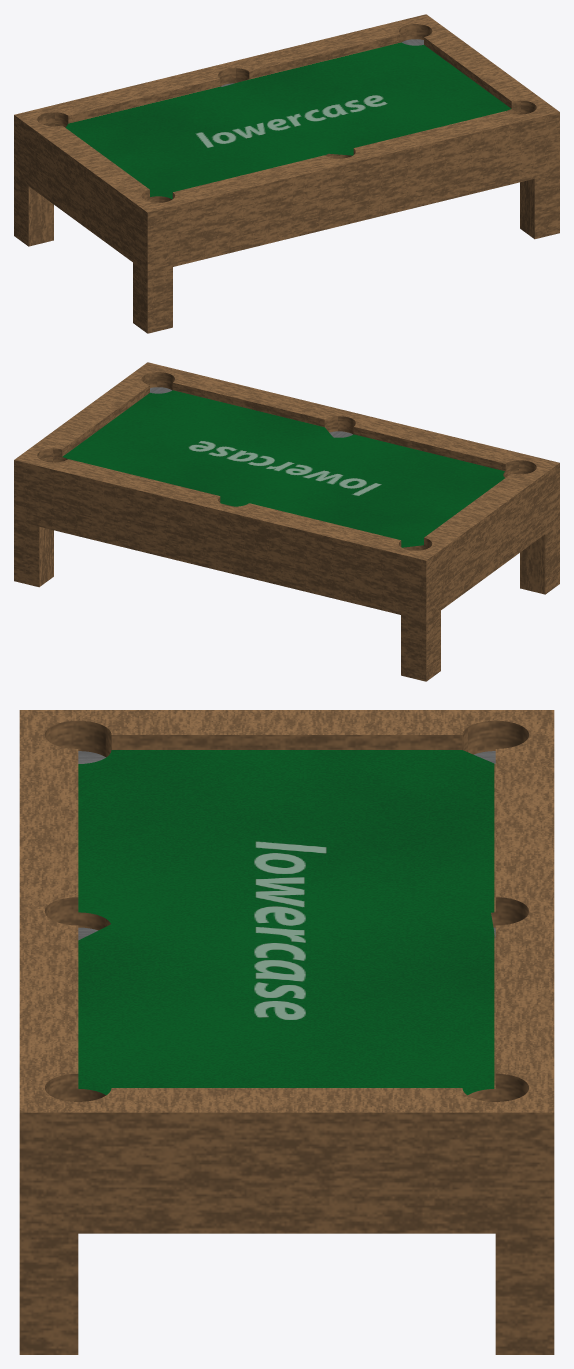
The model's file is Pool_Table.fbx.
The picture shows the model from 3 angles, top to bottom: view 1: azimuth 30°, elevation 25°; view 2: azimuth 150°, elevation 25°; view 3: azimuth 270°, elevation 25°; orthographic projection. The views are drawn at different scales.
Parts seen in each view (by area): view 1: pCube9; view 2: pCube9; view 3: pCube9.
Boxes of the visible parts, x1=… form: pCube9: x1=14, y1=14, x2=559, y2=333; pCube9: x1=14, y1=362, x2=559, y2=681; pCube9: x1=19, y1=710, x2=554, y2=1354.
Bounding box in the file's own units: 114 × 32 × 64.
